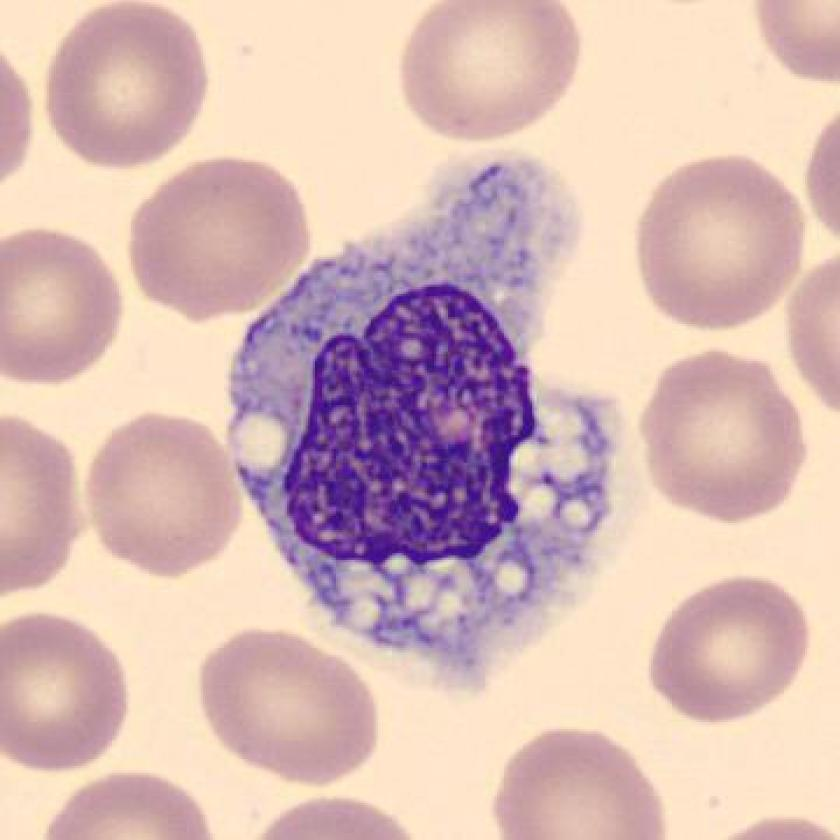monocyte: (199, 126, 666, 704)
